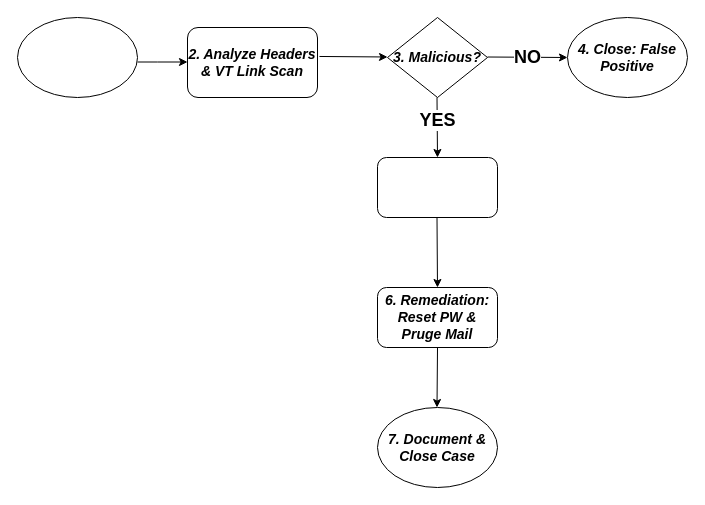
Image size: 705x505. Some labels were removed from this diagram. Here are the shapes that lost their labels. From the top down, the centre of each, then its label:
(77,57): 1. Users report suspicious email
(437,187): 5. Containment: Block Sender & URL
